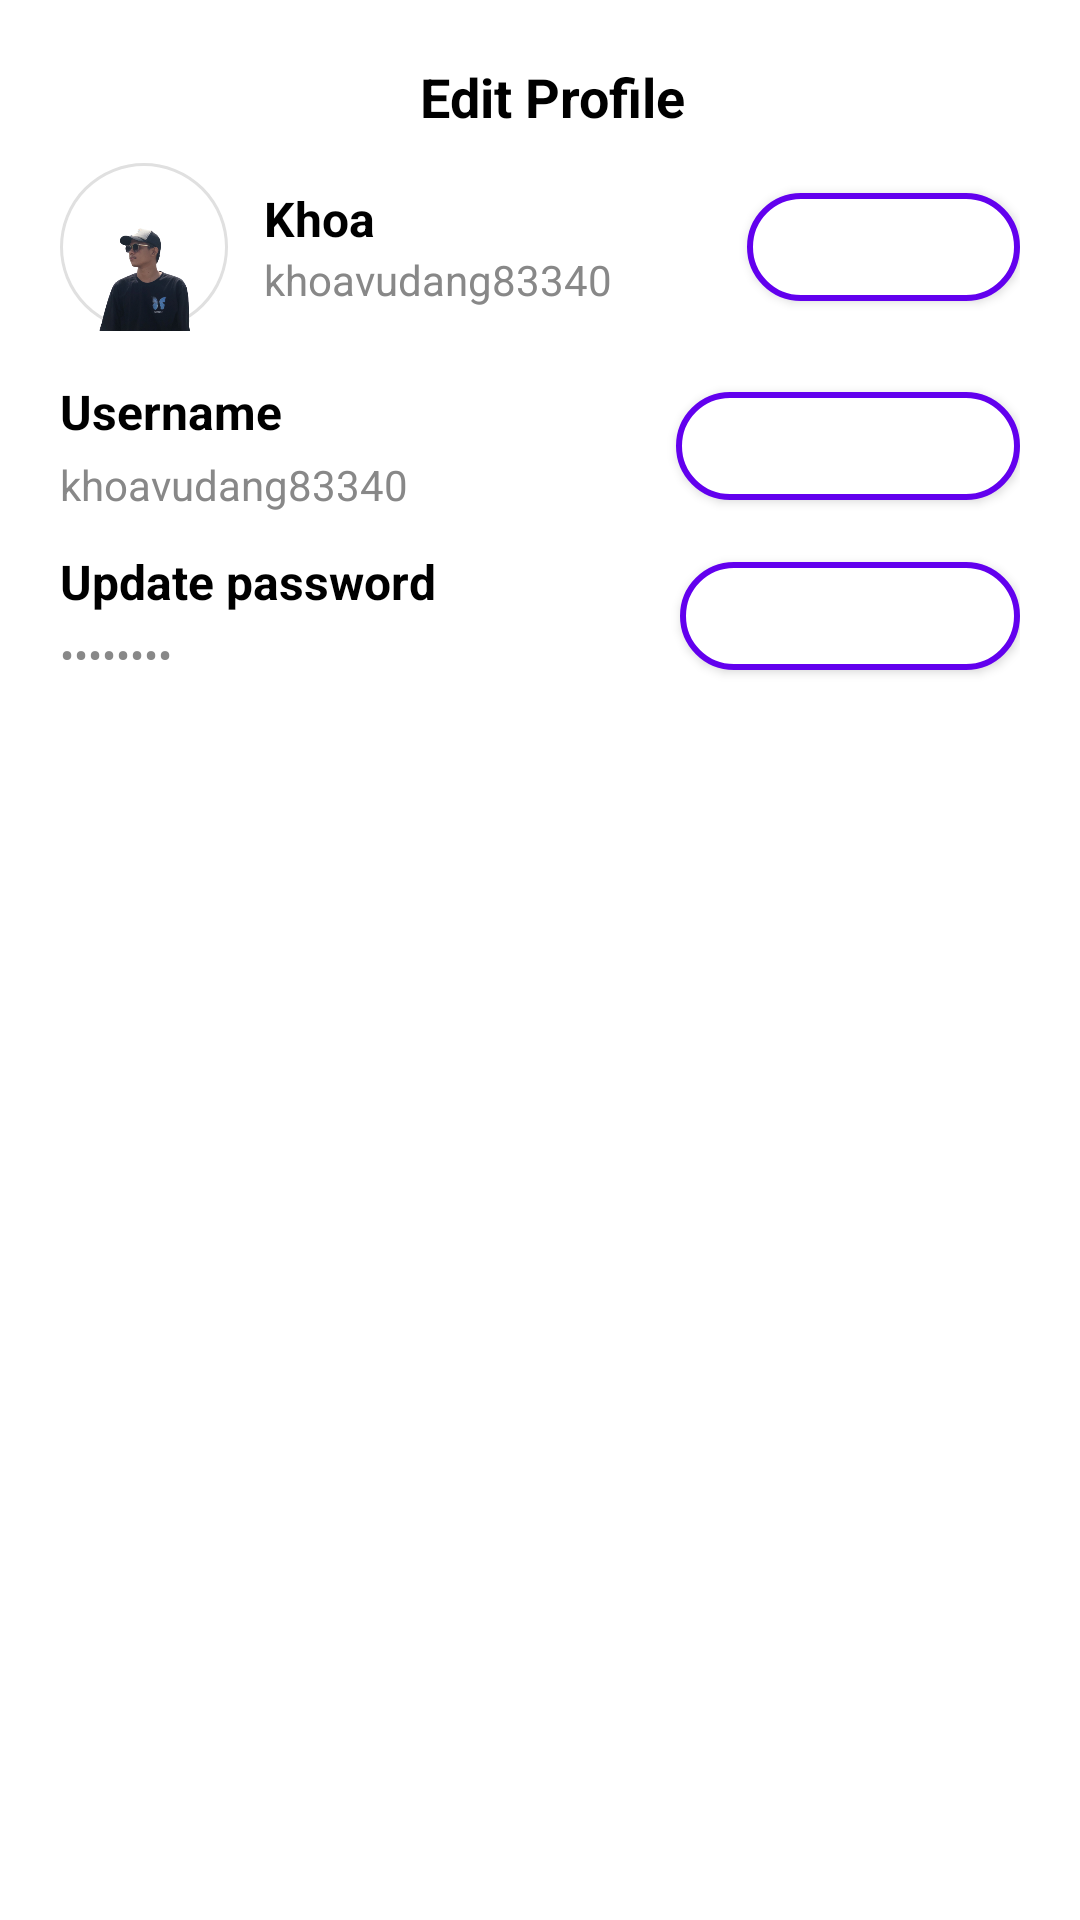

Screen size 1080w x 1920h. Icon name, then its center in pixels as [x,y]:
Change Picture: [144,247]
